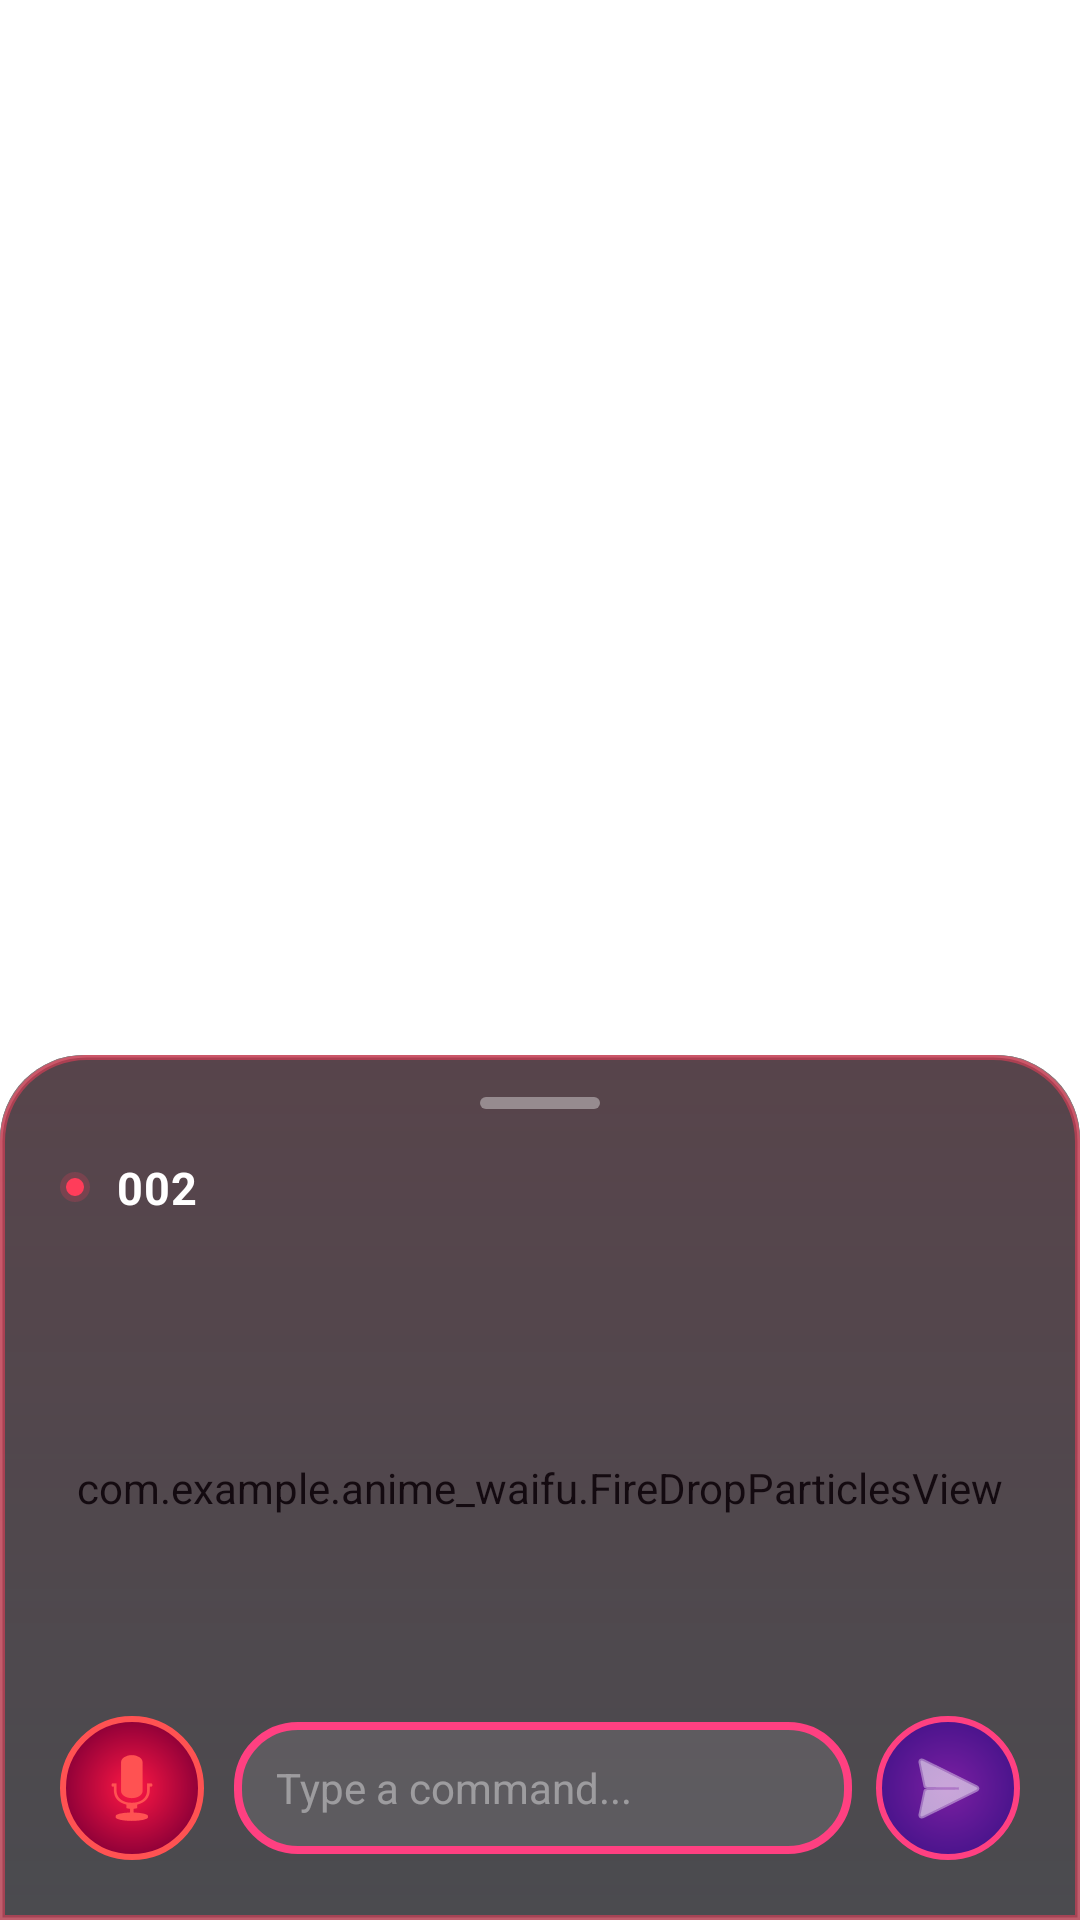

Where to tap for icons on this 1080 x 1920 app screen, as (x,y):
Send command: (948,1788)
Voice command: (132,1788)
